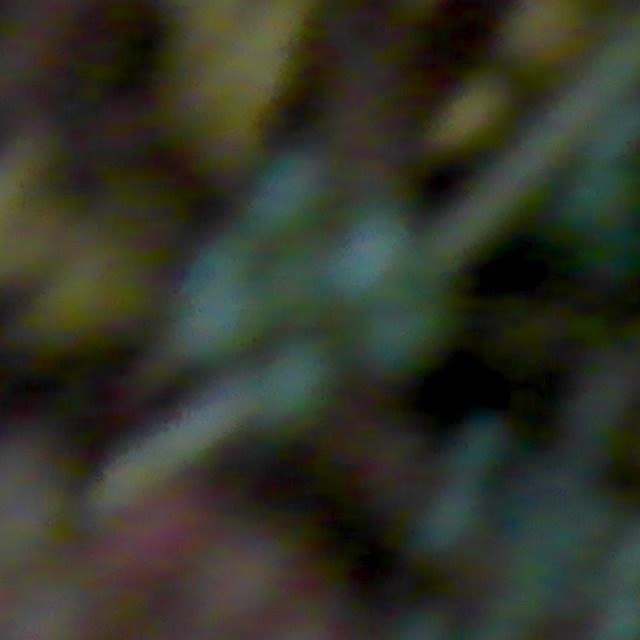SeaGrape: (323, 208, 420, 304), (249, 149, 334, 236), (356, 297, 450, 374), (257, 336, 337, 424)
